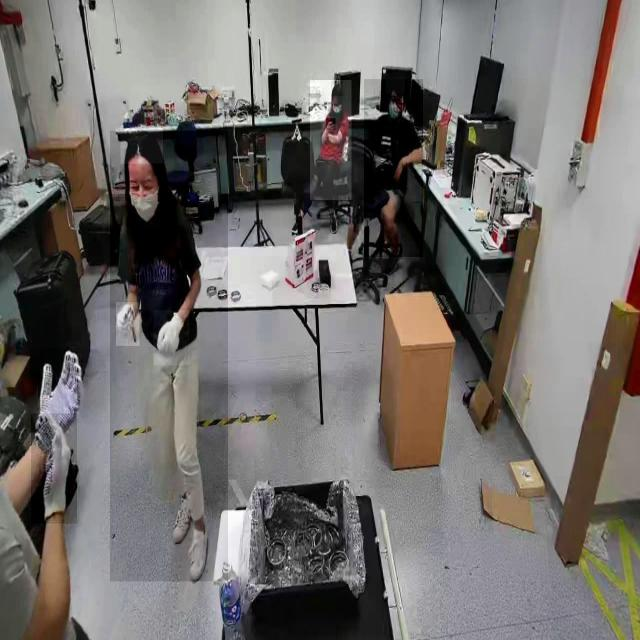face_mask: (121, 164, 161, 227), (390, 96, 402, 126)
hand_glove: (31, 414, 77, 524), (31, 348, 88, 424), (153, 310, 190, 366), (116, 302, 140, 346)
hand_noglove: (392, 159, 404, 185), (326, 118, 336, 131)
head_nohelmet: (120, 128, 163, 164), (386, 79, 406, 94), (331, 81, 343, 97)
person: (110, 131, 228, 582), (364, 79, 424, 258), (310, 80, 352, 201)
shoes: (184, 516, 212, 584), (170, 477, 194, 544)
